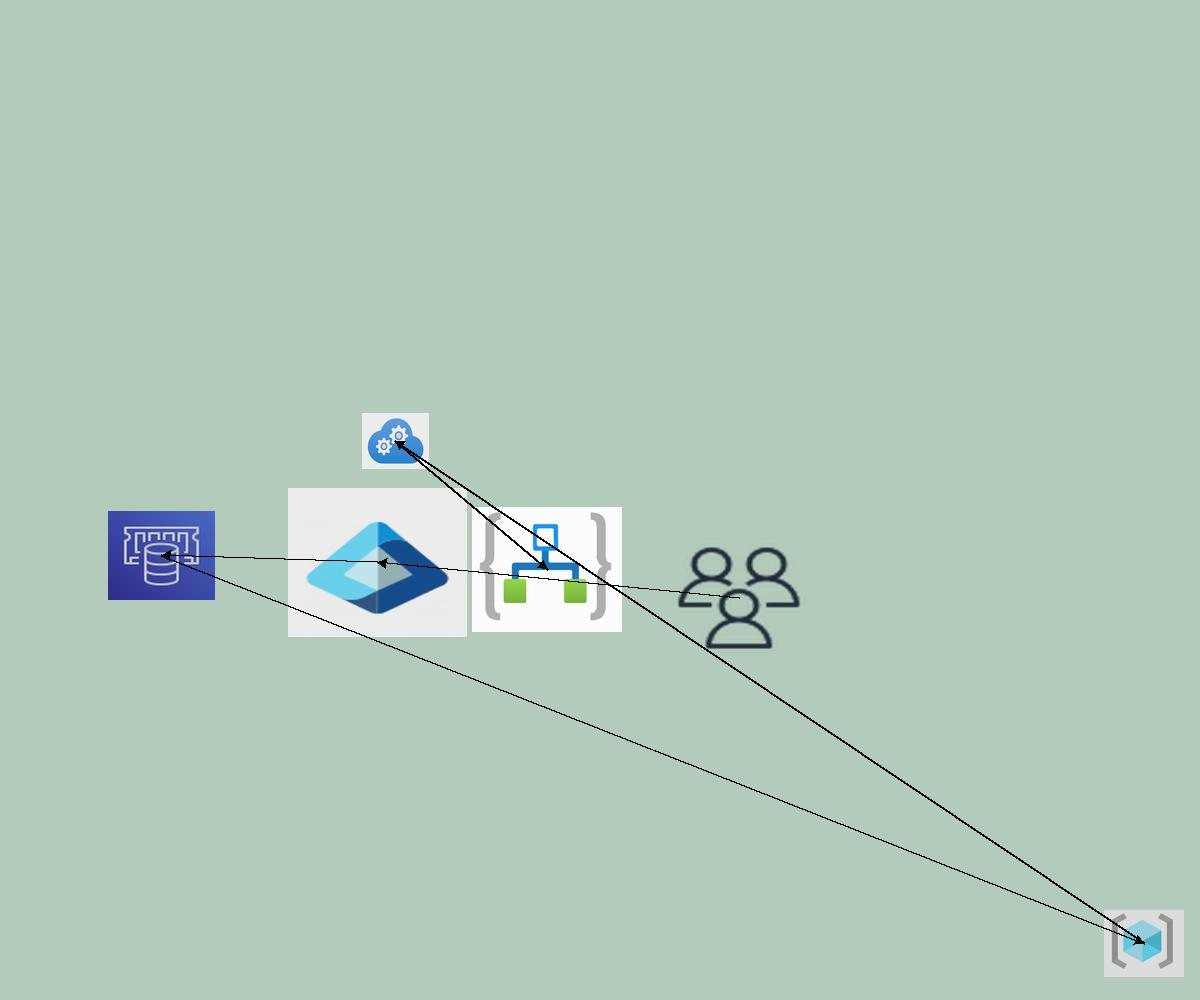AWS-ElastiCache: (108, 511, 215, 600)
AWS-Res_Users: (673, 543, 805, 653)
Azure_cloud_services: (362, 413, 429, 469)
Azure_integration-204-Logic-Apps: (472, 507, 622, 632)
Azure_microsoft_entra: (288, 488, 467, 637)
Azure_resource_group: (1104, 910, 1184, 977)
